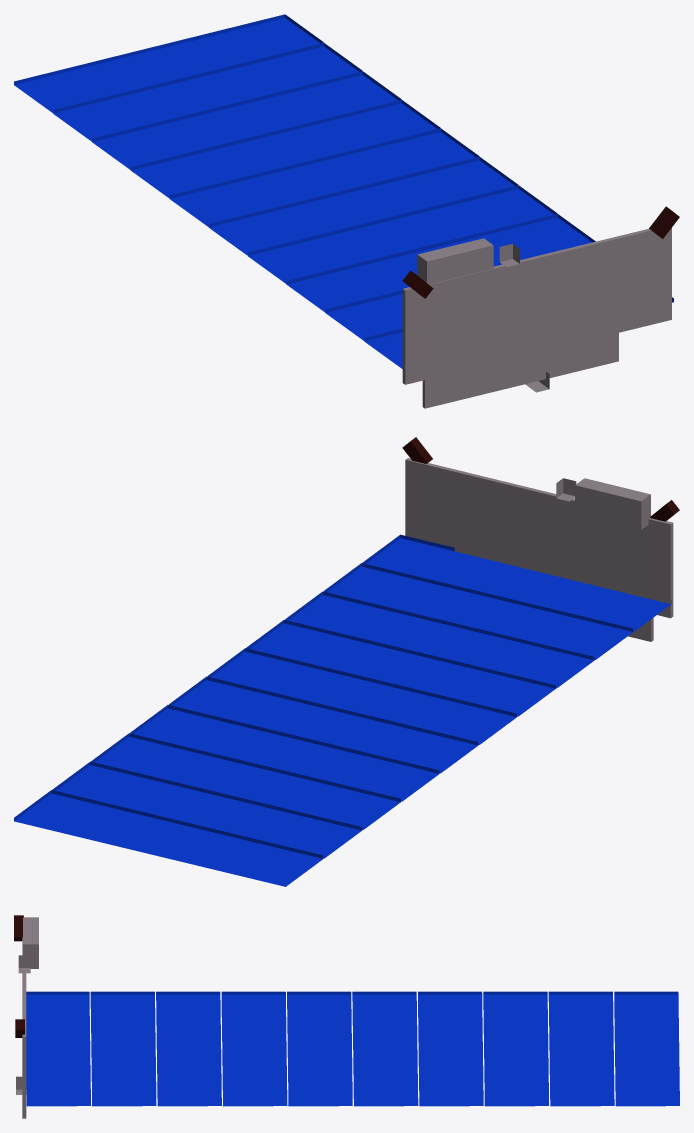
The model's file is starlink_low.gltf.
3 views of the same model, one above another, from view 1: azimuth 30°, elevation 25°; view 2: azimuth 150°, elevation 25°; view 3: azimuth 270°, elevation 25° (orthographic). The views are drawn at different scales.
Visible parts, largest first — view 1: Cube.010, Cube.004, Cube.005, Cube.003, Cube.006, Cube.007, Cube.008, Cube.009, Cube.002, Cube.011, Cube.012, Cube.001 (+2 smaller); view 2: Cube.010, Cube.009, Cube.005, Cube.008, Cube.001, Cube.003, Cube.004, Cube.002, Cube.006, Cube.007, Cube, Cube.012 (+1 smaller); view 3: Cube.005, Cube.001, Cube.008, Cube.002, Cube.004, Cube.006, Cube.007, Cube.009, Cube.003, Cube, Cube.012, Cube.010 (+1 smaller).
Boxes of the visible parts, bbox=[...] form: Cube.010: bbox=[402, 228, 671, 384]; Cube.004: bbox=[208, 156, 518, 255]; Cube.005: bbox=[169, 128, 479, 226]; Cube.003: bbox=[247, 185, 557, 283]; Cube.006: bbox=[130, 100, 440, 198]; Cube.007: bbox=[92, 71, 401, 169]; Cube.008: bbox=[53, 43, 362, 141]; Cube.009: bbox=[14, 14, 323, 112]; Cube.002: bbox=[286, 214, 595, 312]; Cube.011: bbox=[422, 332, 618, 408]; Cube.012: bbox=[417, 238, 493, 284]; Cube.001: bbox=[325, 290, 402, 340]; Cube.010: bbox=[405, 458, 673, 618]; Cube.009: bbox=[14, 790, 323, 886]; Cube.005: bbox=[169, 676, 478, 773]; Cube.008: bbox=[52, 761, 362, 858]; Cube.001: bbox=[324, 563, 633, 659]; Cube.003: bbox=[246, 619, 555, 716]; Cube.004: bbox=[207, 648, 516, 744]; Cube.002: bbox=[285, 591, 594, 688]; Cube.006: bbox=[130, 705, 439, 801]; Cube.007: bbox=[91, 733, 400, 829]; Cube: bbox=[362, 534, 671, 631]; Cube.012: bbox=[575, 478, 650, 529]; Cube.005: bbox=[352, 991, 418, 1106]; Cube.001: bbox=[90, 991, 156, 1106]; Cube.008: bbox=[548, 991, 614, 1106]; Cube.002: bbox=[156, 991, 221, 1106]; Cube.004: bbox=[287, 991, 352, 1106]; Cube.006: bbox=[418, 991, 483, 1106]; Cube.007: bbox=[483, 991, 548, 1106]; Cube.009: bbox=[614, 991, 679, 1106]; Cube.003: bbox=[221, 991, 287, 1106]; Cube: bbox=[26, 991, 90, 1106]; Cube.012: bbox=[23, 917, 38, 968]; Cube.010: bbox=[22, 937, 26, 1116].
Bounding box in the file's own units: 2.82 × 1.51 × 7.07.
